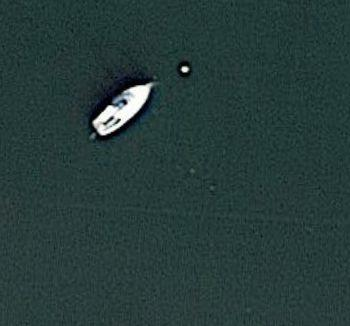Ships: (82, 72, 168, 158)
